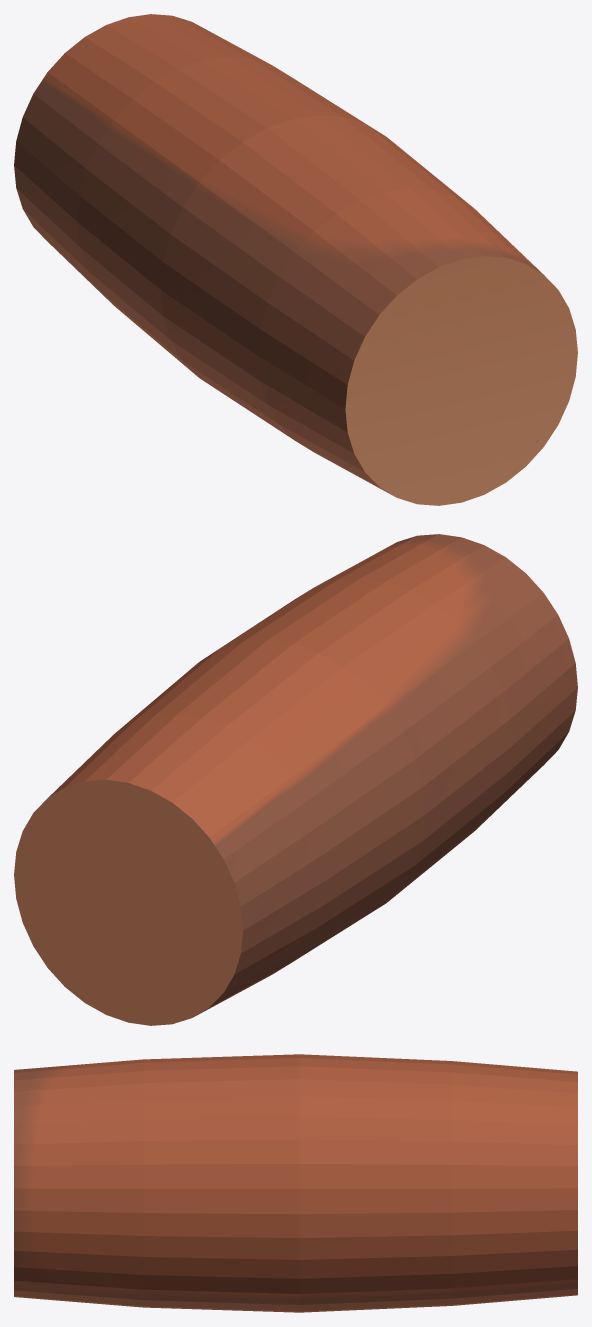
File: log.glb
3 renders of one model, top to bottom at view 1: azimuth 30°, elevation 25°; view 2: azimuth 150°, elevation 25°; view 3: azimuth 270°, elevation 25°, orthographic. The views are drawn at different scales.
Parts seen in each view (by area): view 1: log; view 2: log; view 3: log.
Boxes of the visible parts, x1,y1,x2,y2 form: log: (14,14,577,505); log: (14,534,577,1025); log: (14,1054,577,1312).
Bounding box in the file's own units: 0.7096 × 0.7096 × 1.55.
Materials: 1 (1 with a texture image).
